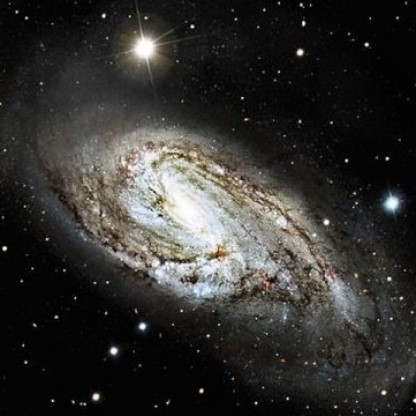Messier 66: (23, 19, 411, 398)
